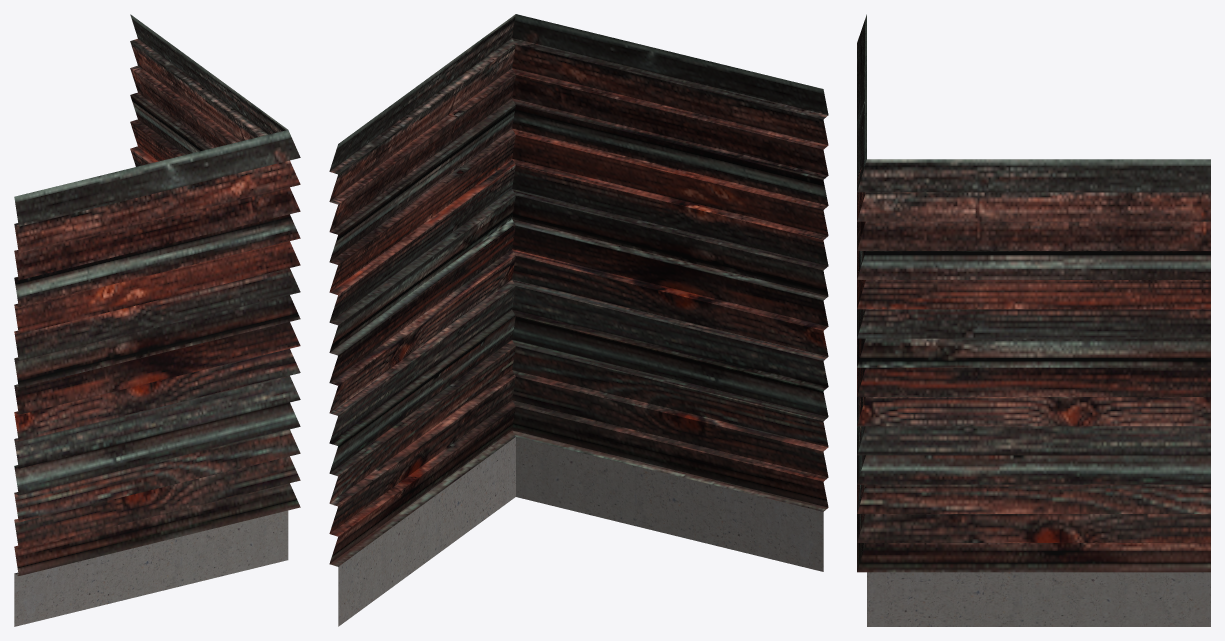
File: SidingCorner_T.fbx
The picture shows the model from 3 angles, left to right: view 1: azimuth 30°, elevation 25°; view 2: azimuth 150°, elevation 25°; view 3: azimuth 270°, elevation 25°; orthographic projection. The views are drawn at different scales.
Parts seen in each view (by area): view 1: SidingCorner, CornerFoundation; view 2: SidingCorner, CornerFoundation; view 3: SidingCorner, CornerFoundation.
Boxes of the visible parts, x1=… form: SidingCorner: x1=14, y1=14, x2=300, y2=575; CornerFoundation: x1=14, y1=510, x2=288, y2=626; SidingCorner: x1=329, y1=14, x2=828, y2=566; CornerFoundation: x1=338, y1=437, x2=823, y2=626; SidingCorner: x1=857, y1=14, x2=1210, y2=572; CornerFoundation: x1=867, y1=572, x2=1210, y2=626.
Size of the model in its own units: 1.03 by 1.5 by 1.03.
2 materials, 2 textured.
